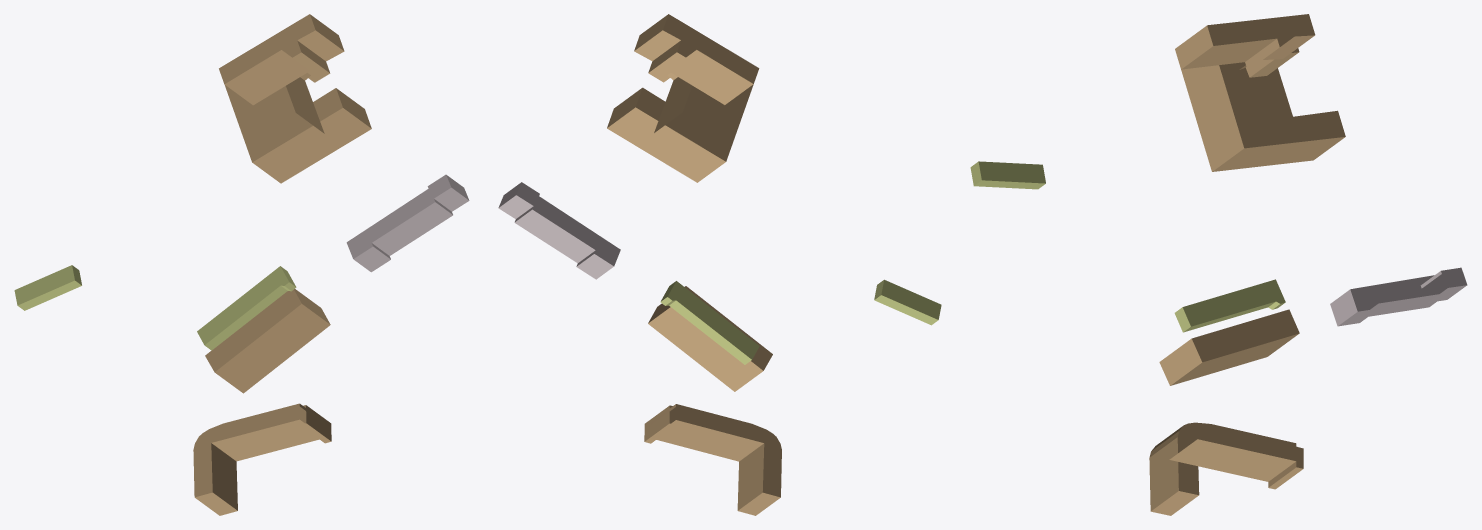
3 views of the same model, side by side, from view 1: azimuth 30°, elevation 25°; view 2: azimuth 150°, elevation 25°; view 3: azimuth 330°, elevation 25° (orthographic). The views are drawn at different scales.
Parts seen in each view (by area): view 1: 0_0_1_1_3_2_3; view 2: 0_0_1_1_3_2_3; view 3: 0_0_1_1_3_2_3.
Part boxes in pixels (box(x1,y1,x2,y2)): 0_0_1_1_3_2_3: box(14, 14, 469, 515); 0_0_1_1_3_2_3: box(498, 14, 941, 515); 0_0_1_1_3_2_3: box(970, 14, 1467, 515).
Bounding box in the file's own units: 210 × 208 × 24.2.
